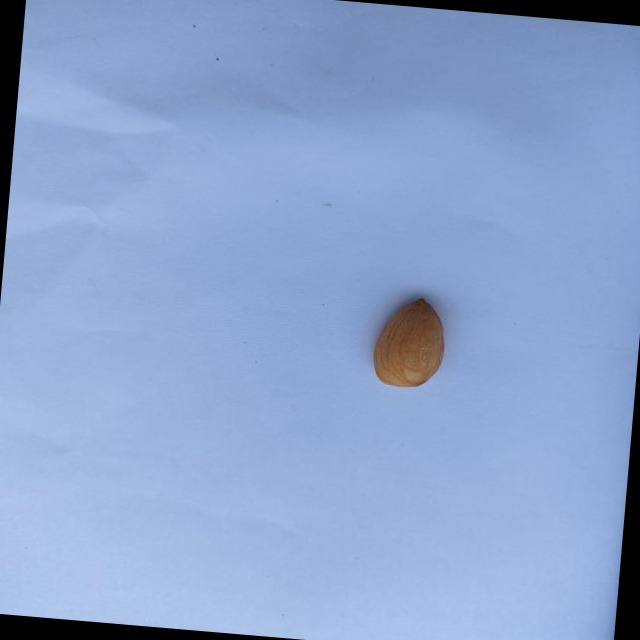grade2: (364, 291, 452, 394)
